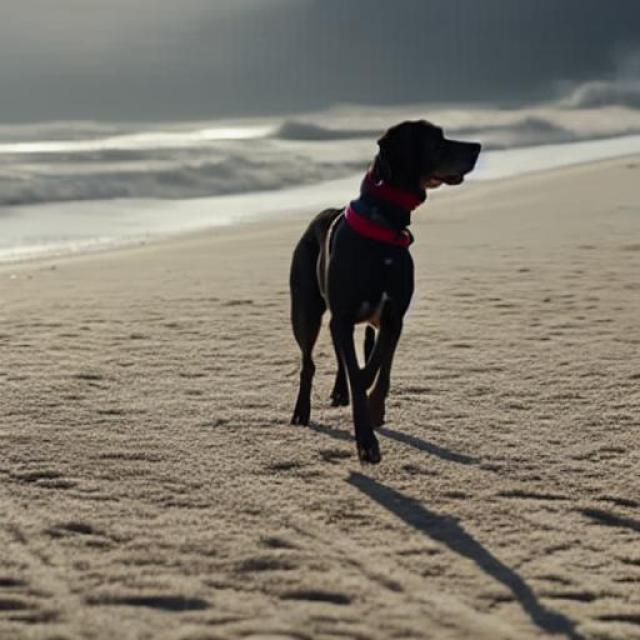Dog: (290, 120, 481, 464)
